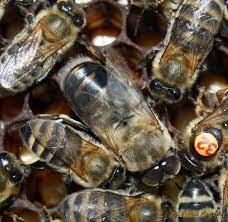worker-bee: (57, 50, 179, 182), (138, 0, 227, 102), (0, 0, 85, 96), (19, 116, 125, 188), (57, 189, 162, 221), (176, 178, 218, 221)
